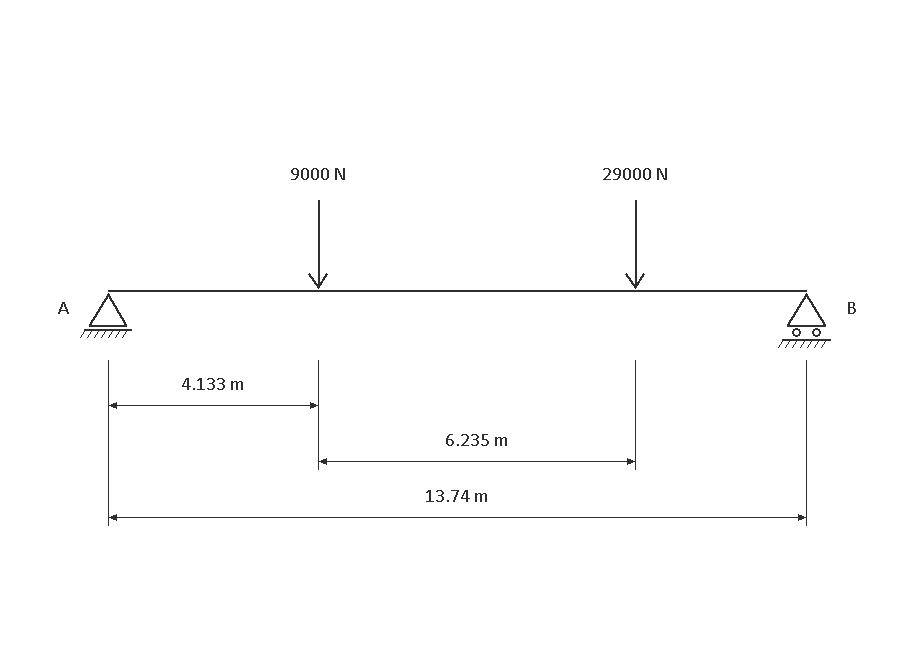pin_support: (80, 293, 132, 338)
point_load: (308, 200, 328, 289), (625, 200, 645, 289)
roller_support: (778, 293, 831, 348)
